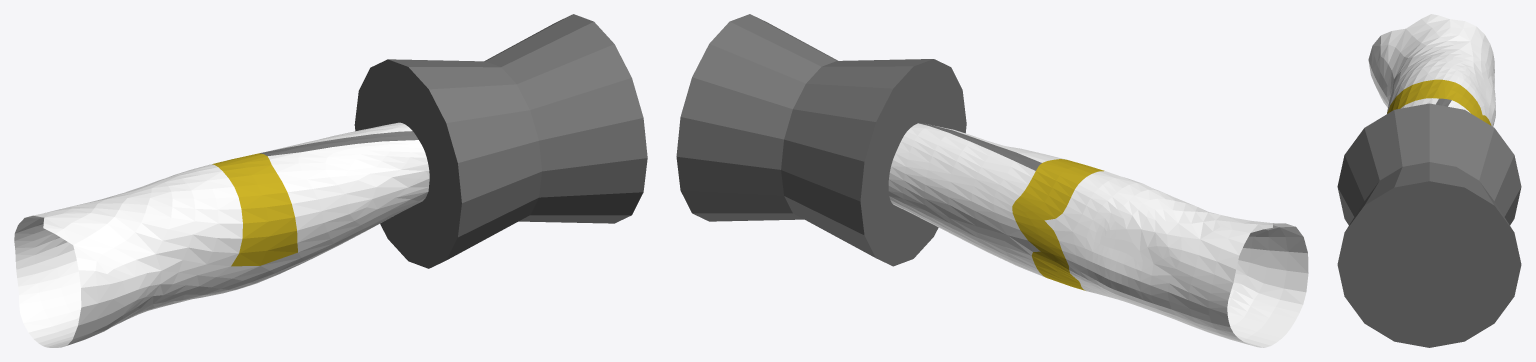
File: lForeArmHam.obj
3 renders of one model, left to right at view 1: azimuth 30°, elevation 25°; view 2: azimuth 150°, elevation 25°; view 3: azimuth 270°, elevation 25°, orthographic. The views are drawn at different scales.
Parts seen in each view (by area): view 1: lForeArmHam; view 2: lForeArmHam; view 3: lForeArmHam.
Boxes of the visible parts, x1,y1,x2,y2 form: lForeArmHam: [14, 14, 647, 347]; lForeArmHam: [676, 14, 1308, 347]; lForeArmHam: [1337, 14, 1521, 347].
Size of the model in its own units: 0.1712 by 0.0573 by 0.0573.
